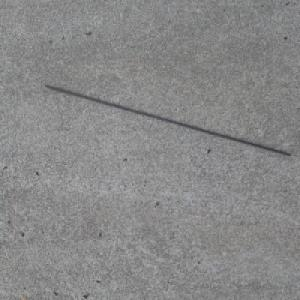LuggagePart: (43, 84, 293, 157)
